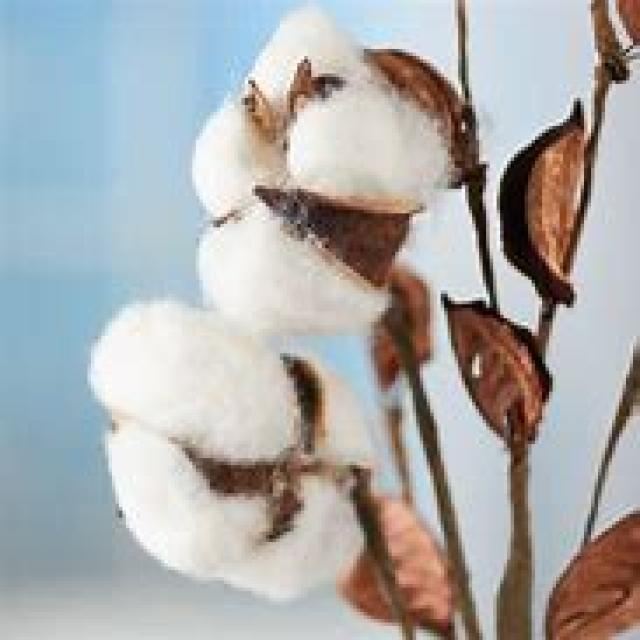Matured Cotton Boll: (191, 12, 469, 340), (96, 299, 382, 611)
